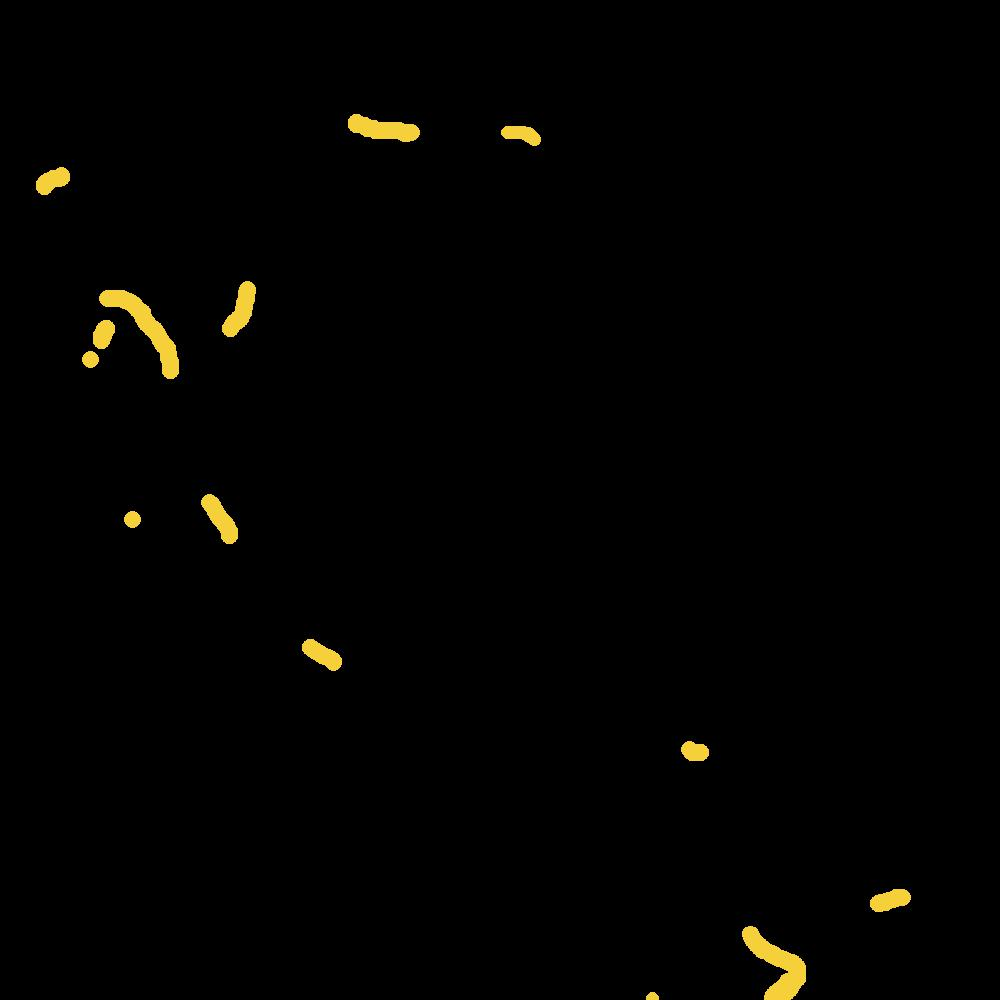legal: (746, 921, 808, 1000), (223, 297, 262, 331), (159, 346, 186, 379), (361, 123, 404, 141), (503, 126, 539, 142), (100, 321, 117, 347), (33, 175, 62, 190), (870, 893, 906, 905), (303, 642, 317, 654), (221, 526, 232, 540), (131, 521, 138, 530)
